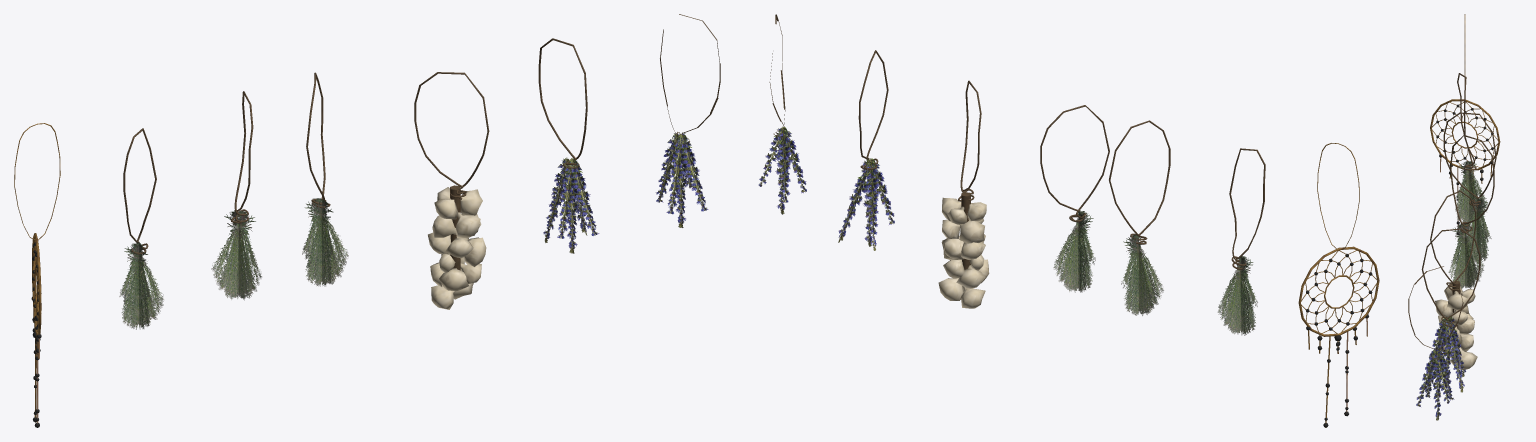
Rendered from Herbs.fbx.
The picture shows the model from 3 angles, left to right: view 1: azimuth 30°, elevation 25°; view 2: azimuth 150°, elevation 25°; view 3: azimuth 270°, elevation 25°; orthographic projection. The views are drawn at different scales.
Visible parts, largest first — view 1: Combined_Fire_Plant_Stool_Cage.002, Combined_Set_2.002, Combined_Set_2.004, Combined_Set_2.003, Combined_Set_2.001, Combined_Set_2, Combined_Fire_Plant_Stool_Cage.001, Combined_Fire_Plant_Stool_Cage.006, Combined_Fire_Plant_Stool_Cage.003, Combined_Fire_Plant_Stool_Cage.005, Combined_Fire_Plant_Stool_Cage.004; view 2: Combined_Fire_Plant_Stool_Cage.002, Combined_Fire_Plant_Stool_Cage.001, Combined_Set_2.003, Combined_Set_2.002, Combined_Set_2.001, Combined_Set_2.004, Combined_Set_2, Combined_Fire_Plant_Stool_Cage.003, Combined_Fire_Plant_Stool_Cage.005, Combined_Fire_Plant_Stool_Cage.004, Combined_Fire_Plant_Stool_Cage.006; view 3: Combined_Fire_Plant_Stool_Cage.002, Combined_Fire_Plant_Stool_Cage.001, Combined_Set_2.003, Combined_Set_2, Combined_Set_2.004, Combined_Set_2.001, Combined_Set_2.002, Combined_Fire_Plant_Stool_Cage.006, Combined_Fire_Plant_Stool_Cage.005, Combined_Fire_Plant_Stool_Cage.003, Combined_Fire_Plant_Stool_Cage.004, Combined_Fire_Plant_Stool_Cage.007.
Boxes of the visible parts, x1,y1,x2,y2 form: Combined_Fire_Plant_Stool_Cage.002: (414,72,489,309); Combined_Set_2.002: (211,210,261,300); Combined_Set_2.004: (543,157,599,253); Combined_Set_2.003: (302,198,348,286); Combined_Set_2.001: (119,242,163,329); Combined_Set_2: (655,132,708,227); Combined_Fire_Plant_Stool_Cage.001: (14,123,60,427); Combined_Fire_Plant_Stool_Cage.006: (538,38,587,168); Combined_Fire_Plant_Stool_Cage.003: (231,91,253,223); Combined_Fire_Plant_Stool_Cage.005: (306,72,330,209); Combined_Fire_Plant_Stool_Cage.004: (123,128,156,254); Combined_Fire_Plant_Stool_Cage.002: (938,80,989,308); Combined_Fire_Plant_Stool_Cage.001: (1298,143,1379,427); Combined_Set_2.003: (1053,210,1095,292); Combined_Set_2.002: (1121,234,1163,315); Combined_Set_2.001: (1217,256,1257,335); Combined_Set_2.004: (838,158,894,250); Combined_Set_2: (758,126,806,214); Combined_Fire_Plant_Stool_Cage.003: (1109,120,1170,244); Combined_Fire_Plant_Stool_Cage.005: (1040,105,1109,222); Combined_Fire_Plant_Stool_Cage.004: (1229,148,1265,269); Combined_Fire_Plant_Stool_Cage.006: (858,50,888,170); Combined_Fire_Plant_Stool_Cage.002: (1430,190,1477,369); Combined_Fire_Plant_Stool_Cage.001: (1430,14,1500,234); Combined_Set_2.003: (1448,223,1484,288); Combined_Set_2: (1416,350,1454,420); Combined_Set_2.004: (1426,316,1465,392); Combined_Set_2.001: (1455,161,1486,223); Combined_Set_2.002: (1457,198,1491,262); Combined_Fire_Plant_Stool_Cage.006: (1421,228,1480,326); Combined_Fire_Plant_Stool_Cage.005: (1450,135,1494,232); Combined_Fire_Plant_Stool_Cage.003: (1443,112,1496,207); Combined_Fire_Plant_Stool_Cage.004: (1457,73,1476,172); Combined_Fire_Plant_Stool_Cage.007: (1408,266,1463,359).
Size of the model in its own units: 213 by 92.01 by 41.85.
Materials: 2 (2 with a texture image).
